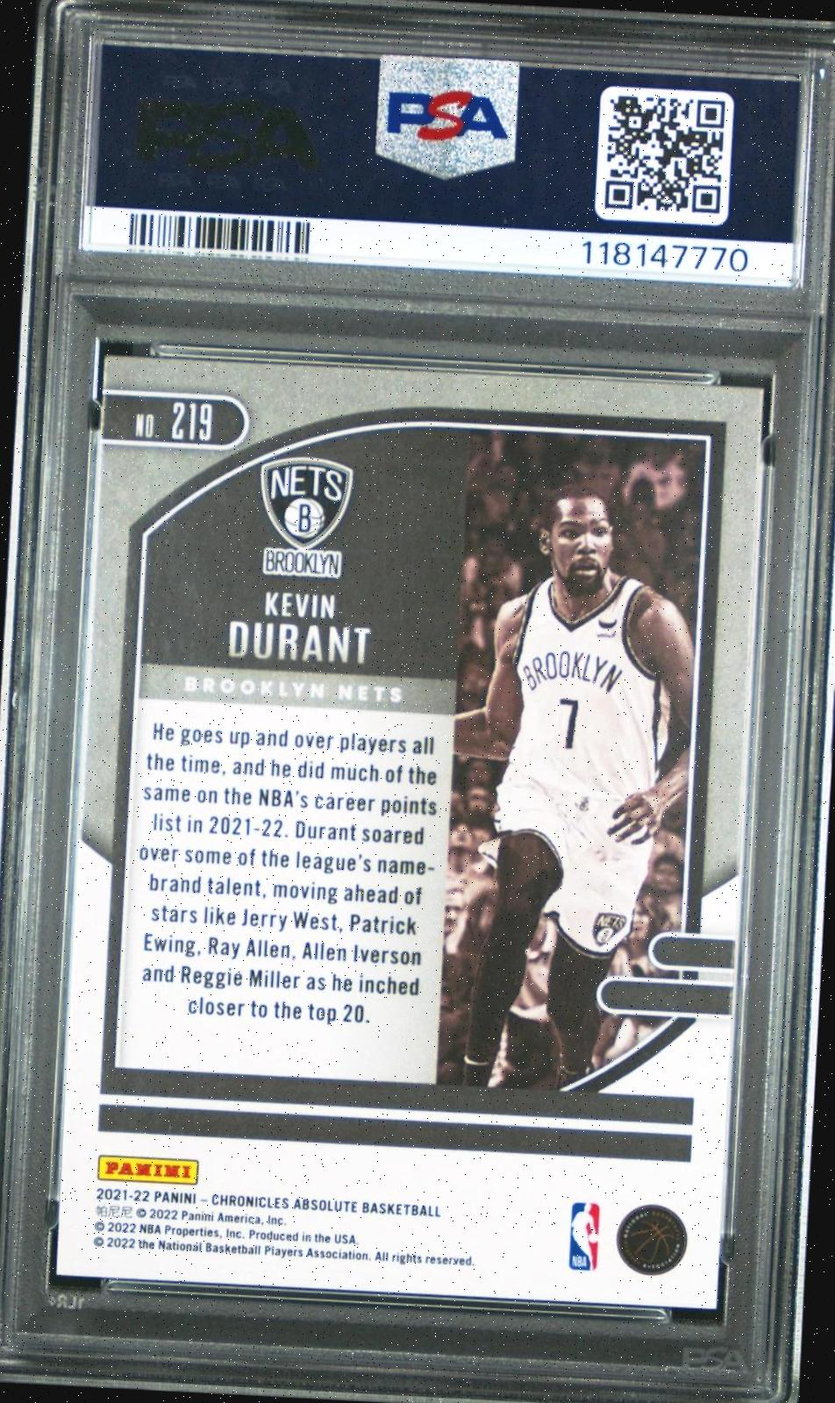card-2UtV: (55, 353, 766, 1310)
